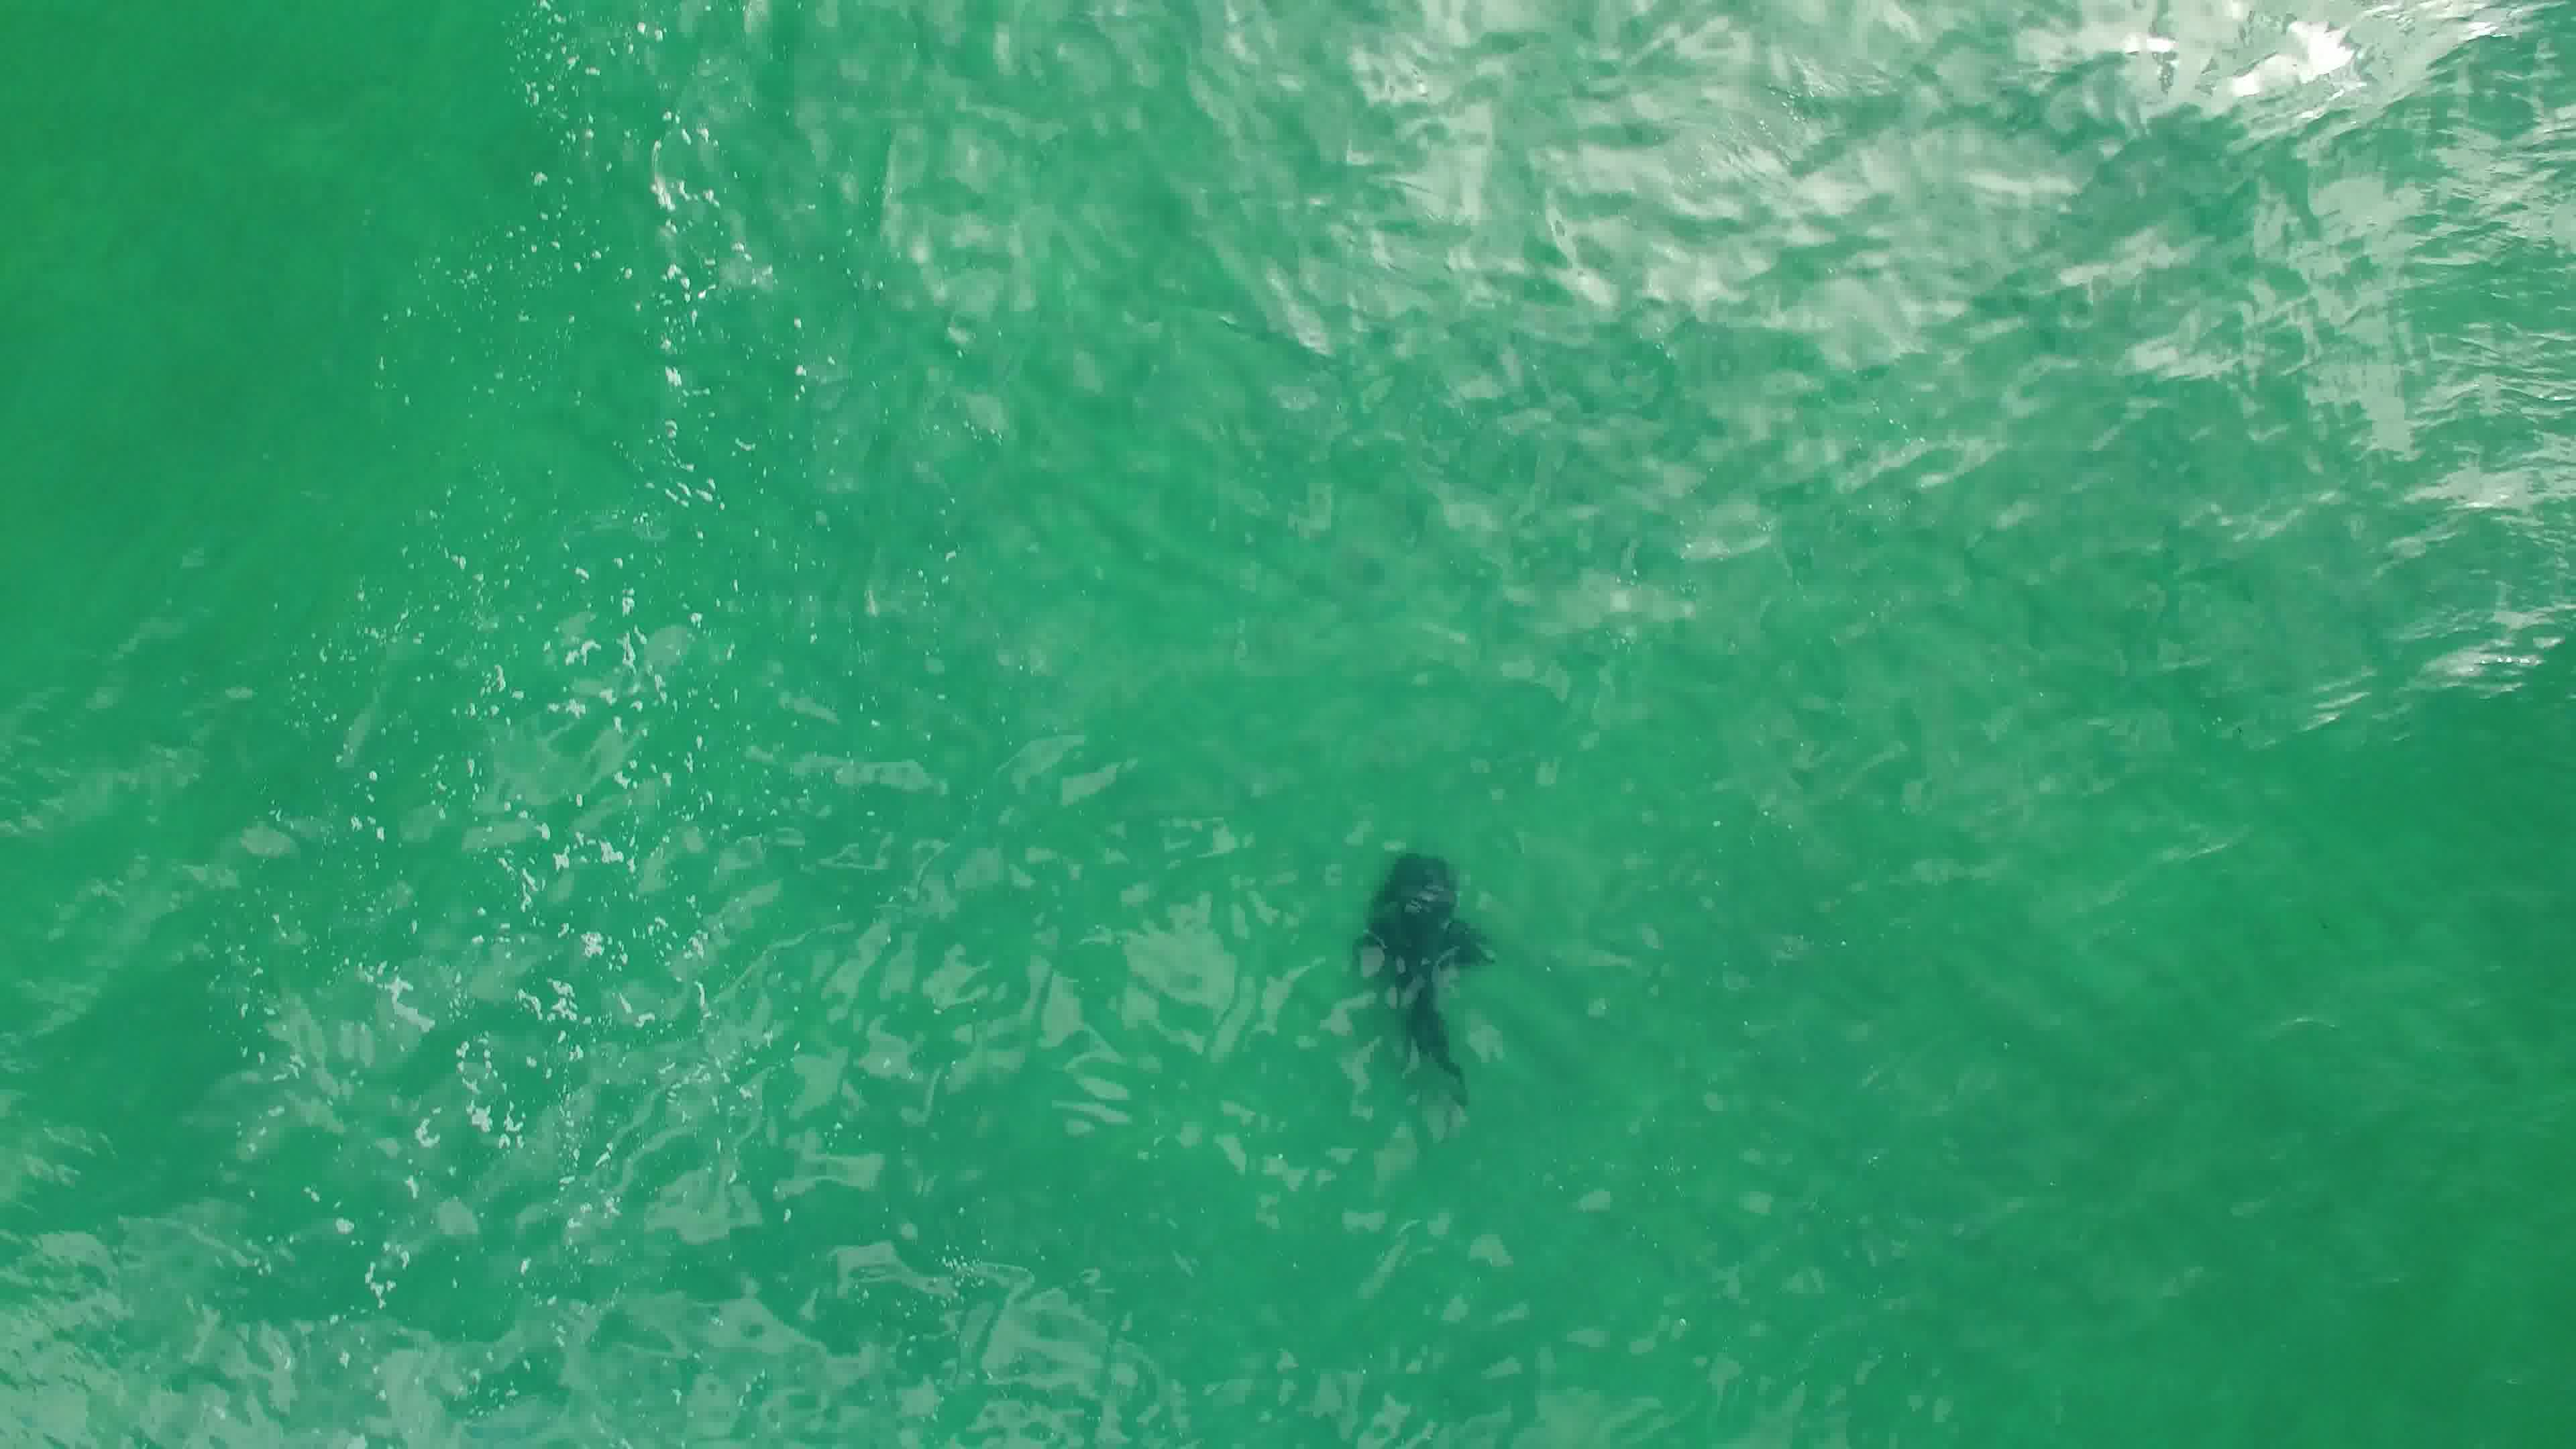shark: (1338, 844, 1504, 1111)
